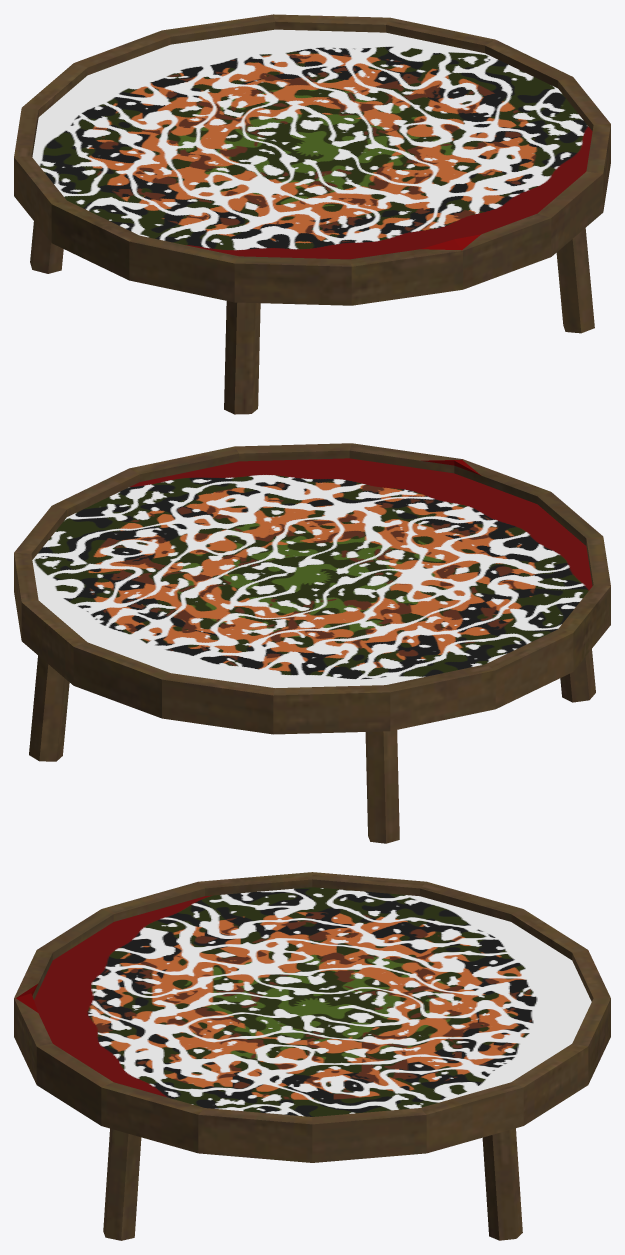
Rendered from MapTable.fbx.
3 views of the same model, one above another, from view 1: azimuth 30°, elevation 25°; view 2: azimuth 150°, elevation 25°; view 3: azimuth 270°, elevation 25° (orthographic).
Parts seen in each view (by area): view 1: MapTable; view 2: MapTable; view 3: MapTable.
Part boxes in pixels (bbox=[...]): MapTable: bbox=[14, 14, 610, 414]; MapTable: bbox=[14, 443, 610, 843]; MapTable: bbox=[14, 872, 610, 1240].
Size of the model in its own units: 350 by 104 by 350.
Materials: 3 (2 with a texture image).
